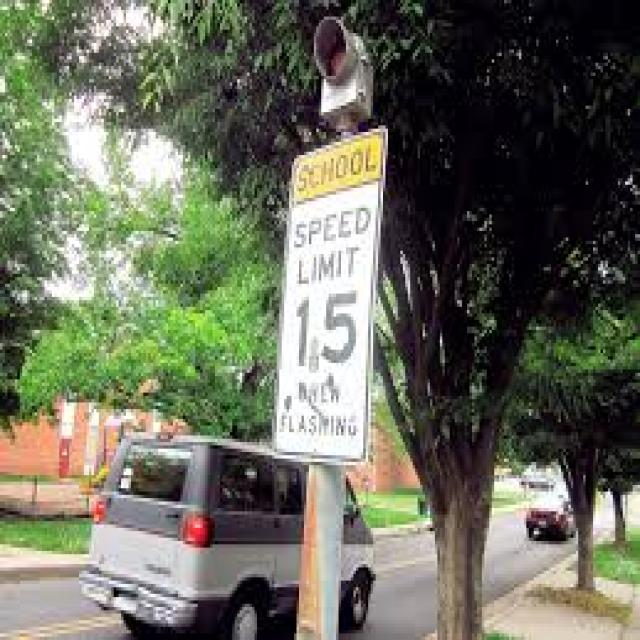speedLimit15: (279, 176, 380, 374)
